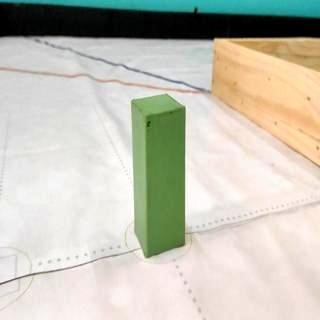greenbox: (131, 94, 187, 258)
